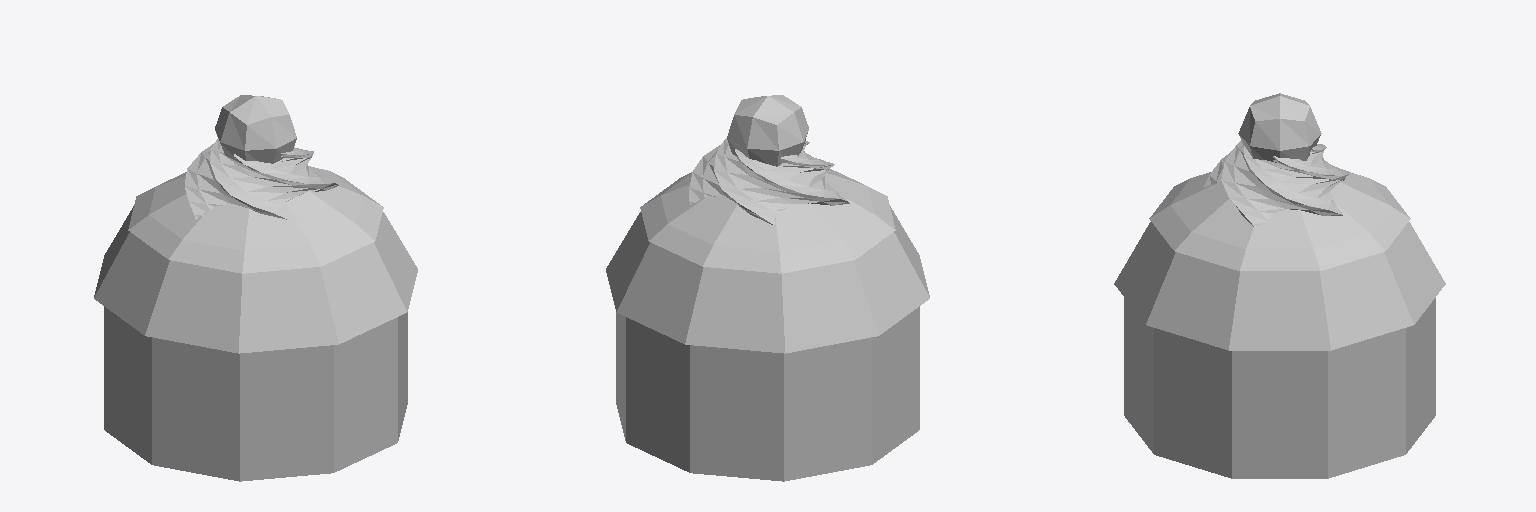
File: Cupcake.obj
3 renders of one model, left to right at view 1: azimuth 30°, elevation 25°; view 2: azimuth 150°, elevation 25°; view 3: azimuth 270°, elevation 25°, orthographic.
Visible parts, largest first — view 1: Cylinder.014; view 2: Cylinder.014; view 3: Cylinder.014.
Boxes of the visible parts, <box> form: Cylinder.014: <box>94,95,417,481</box>; Cylinder.014: <box>606,95,929,481</box>; Cylinder.014: <box>1114,93,1445,478</box>.
Size of the model in its own units: 1.55 by 1.73 by 1.63.